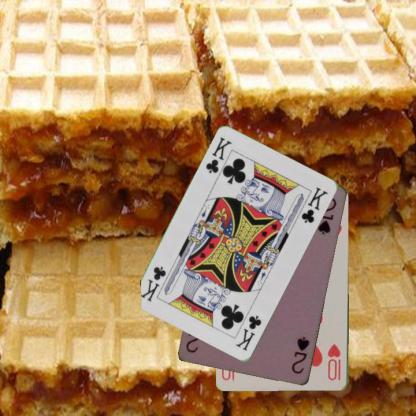10h: (325, 341, 342, 382)
2s: (289, 334, 311, 376)
Kc: (233, 312, 263, 352), (203, 135, 233, 175)
